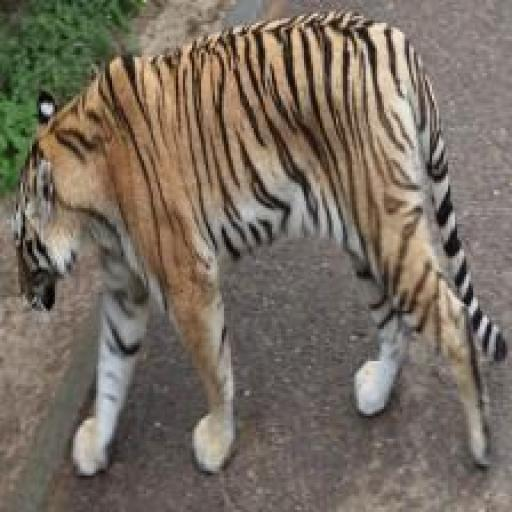Tiger: (7, 18, 504, 501)
